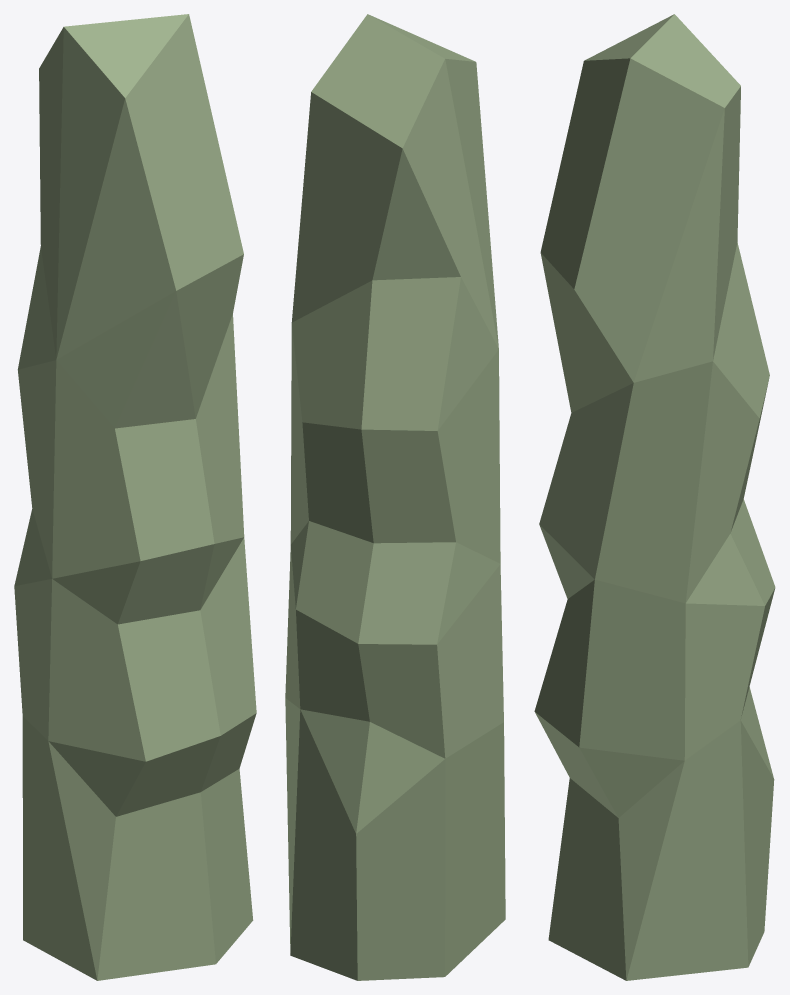
Rendered from EA_Swamp_Grass_03b.glb.
3 renders of one model, left to right at view 1: azimuth 30°, elevation 25°; view 2: azimuth 150°, elevation 25°; view 3: azimuth 270°, elevation 25°, orthographic. The views are drawn at different scales.
Parts seen in each view (by area): view 1: EA_Swamp_Grass_03b; view 2: EA_Swamp_Grass_03b; view 3: EA_Swamp_Grass_03b.
Part boxes in pixels (box(x1,y1,x2,y2)): EA_Swamp_Grass_03b: box(14, 14, 256, 980); EA_Swamp_Grass_03b: box(285, 14, 505, 980); EA_Swamp_Grass_03b: box(534, 14, 775, 980).
Size of the model in its own units: 0.133 by 0.583 by 0.1413.
1 material, 1 textured.
